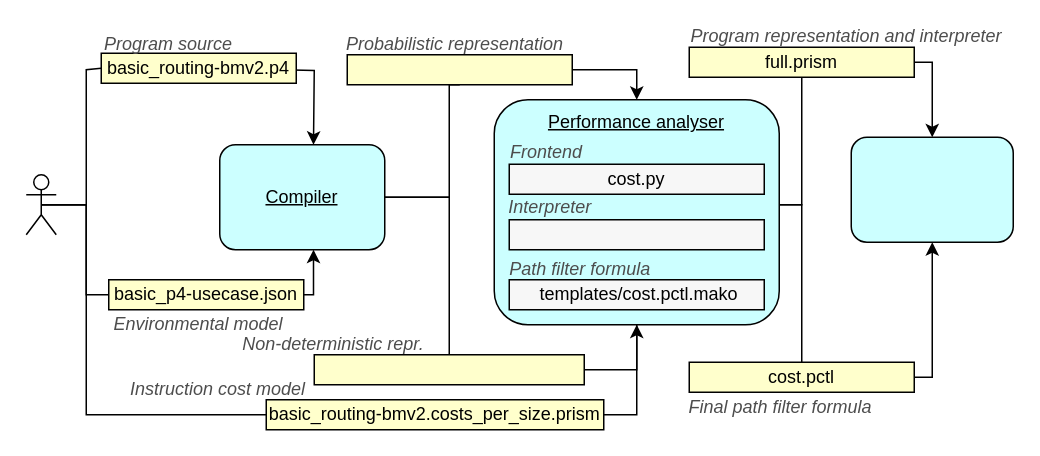
This 1040x456 diagram has some shape labels left out. The centre of each missing label's shape, as x and y in pixels:
basic_routing-bmv2-nondet.prism: pixel 448 369
basic_routing-bmv2.prism: pixel 459 69
PRISM: pixel 931 189
templates/stack.prism.mako: pixel 636 234
